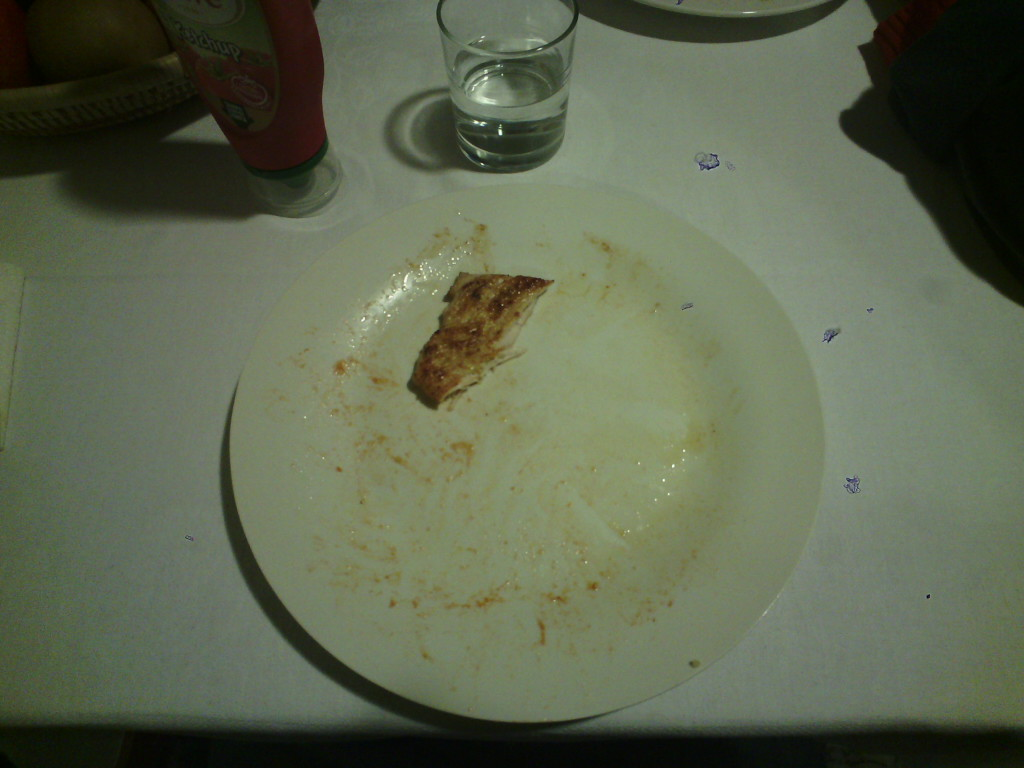0-20: (251, 184, 822, 723)
